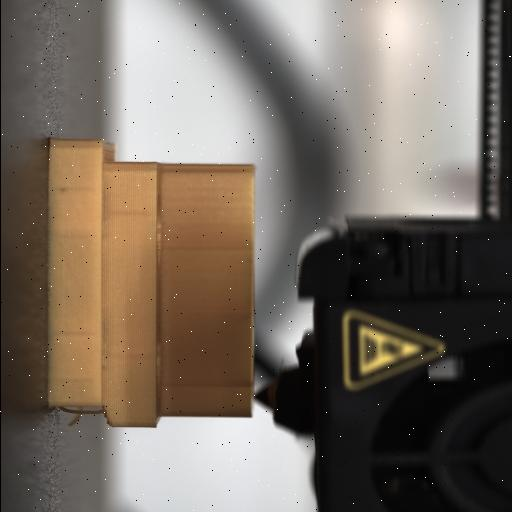layer_shift: (88, 138, 122, 426)
